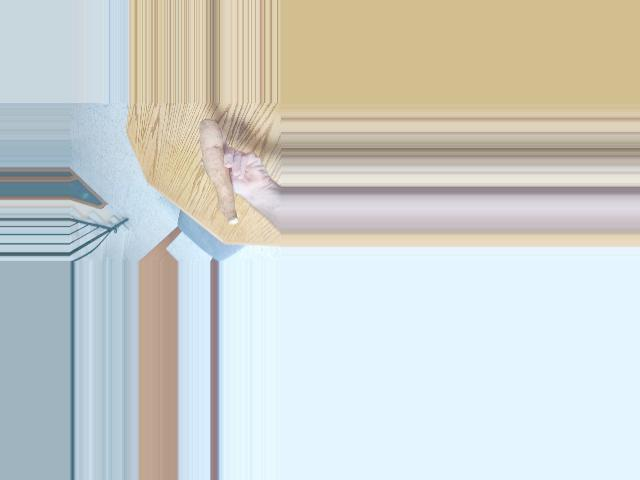sweet_potato: (193, 121, 244, 223)
